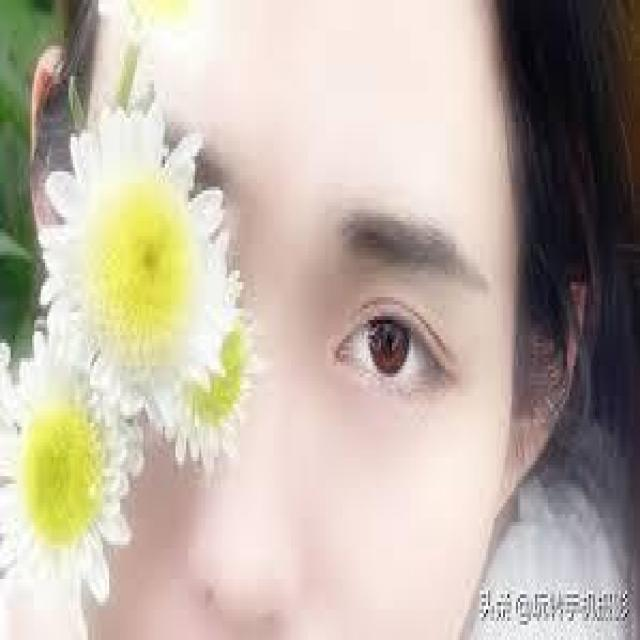organic waste: (45, 99, 235, 457), (8, 330, 132, 608)
